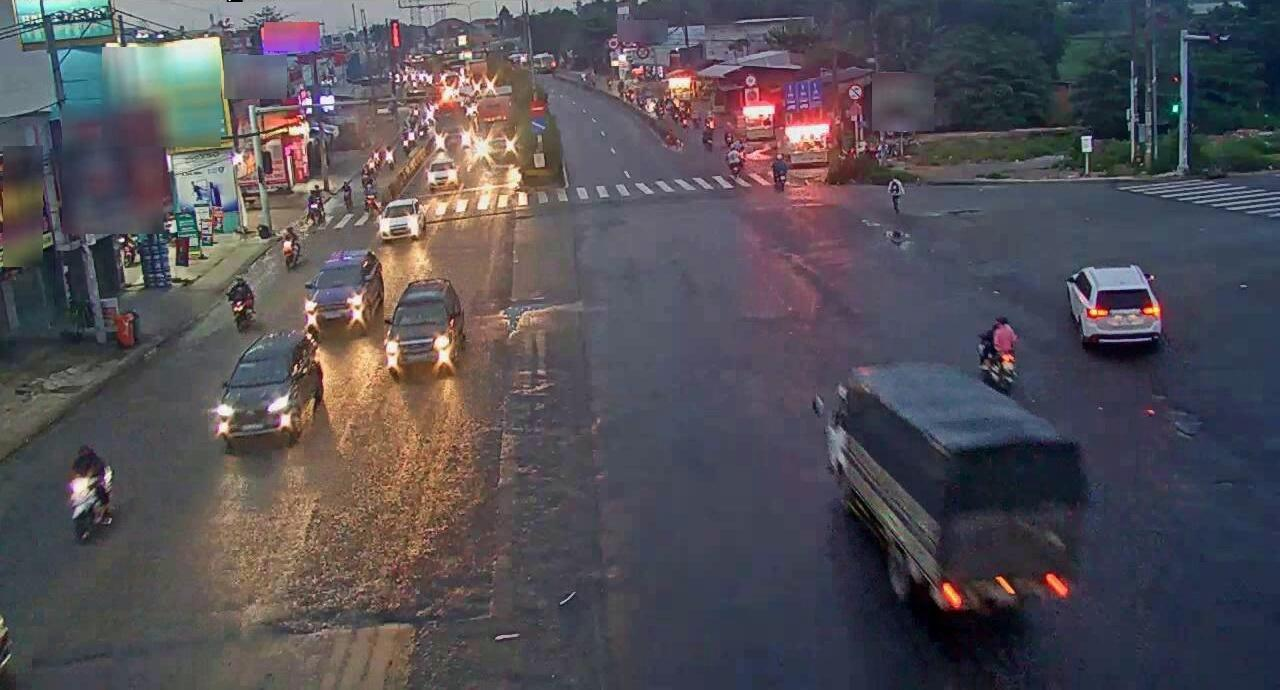xe hoi: (218, 327, 325, 446), (391, 275, 460, 372), (305, 254, 374, 333)
xe may: (62, 444, 120, 544)
xe tai: (809, 354, 1079, 622)
